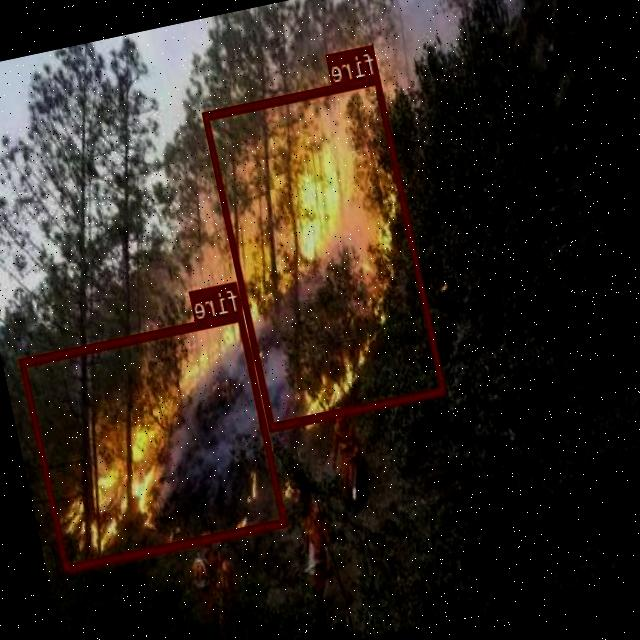fire: (203, 73, 447, 430), (19, 309, 288, 572)
